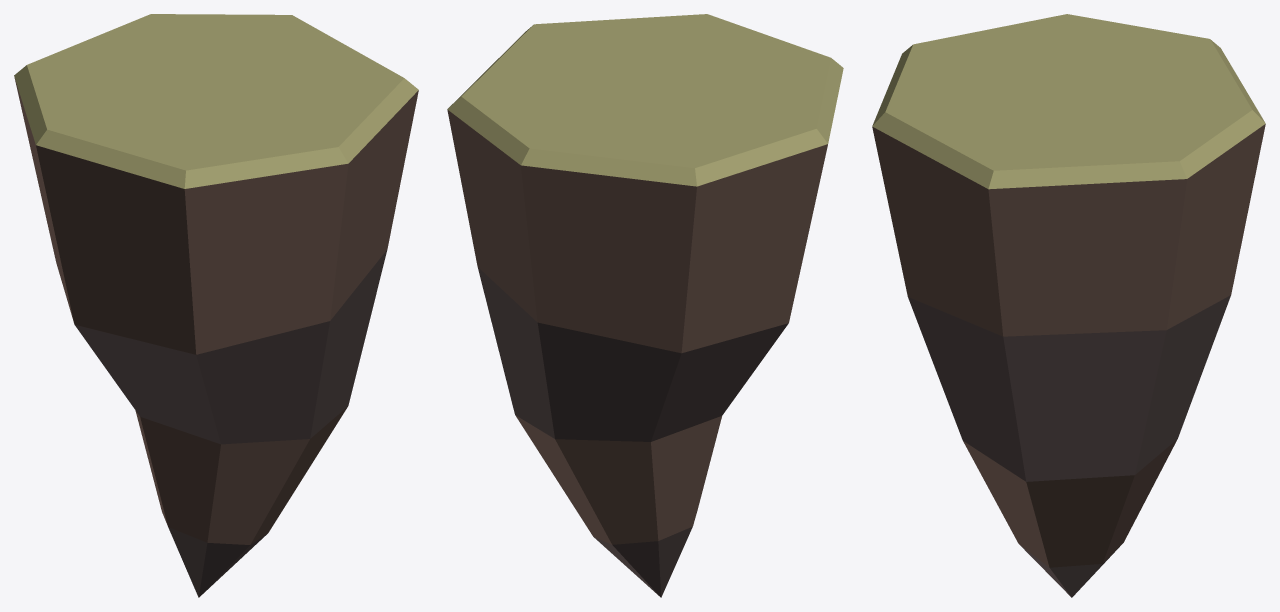
The model's file is DeadVegetationFloorSmallSpookyLandChunk1.fbx.
3 views of the same model, side by side, from view 1: azimuth 30°, elevation 25°; view 2: azimuth 150°, elevation 25°; view 3: azimuth 270°, elevation 25° (orthographic).
Parts seen in each view (by area): view 1: Soil, Grass; view 2: Soil, Grass; view 3: Soil, Grass.
Boxes of the visible parts, bbox=[...] form: Soil: bbox=[14, 78, 418, 597]; Grass: bbox=[14, 14, 418, 188]; Soil: bbox=[447, 109, 827, 597]; Grass: bbox=[447, 14, 843, 186]; Soil: bbox=[872, 124, 1265, 597]; Grass: bbox=[872, 14, 1265, 189].
Size of the model in its own units: 879 by 1240 by 870.
